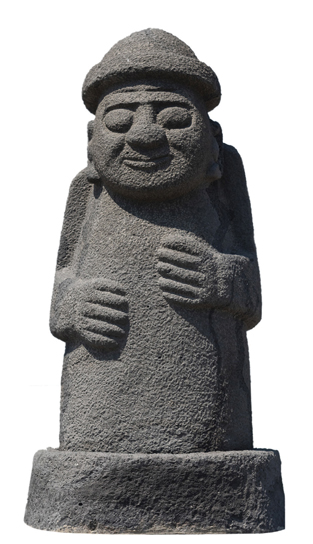Stone Statue: (22, 15, 290, 538)
